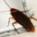cockroach: (10, 7, 34, 32)
